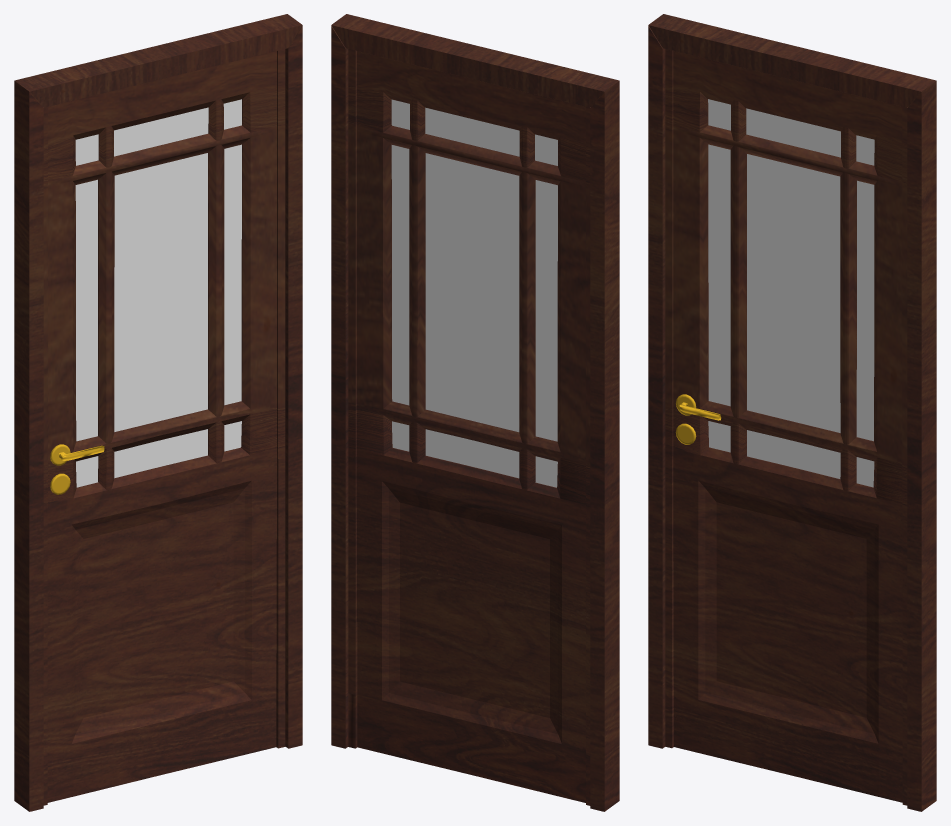
Rendered from PUERTA22_SAVONA.glb.
The picture shows the model from 3 angles, left to right: view 1: azimuth 30°, elevation 25°; view 2: azimuth 150°, elevation 25°; view 3: azimuth 330°, elevation 25°; orthographic projection.
Parts seen in each view (by area): view 1: Puerta22_SANOVA, Puerta22_Marco, CRISTAL_GRANDE, Puerta22_Cerradura; view 2: Puerta22_SANOVA, Puerta22_Marco, CRISTAL_GRANDE; view 3: Puerta22_SANOVA, Puerta22_Marco, CRISTAL_GRANDE, Puerta22_Cerradura.
Boxes of the visible parts, left/top/right/bottom form: Puerta22_SANOVA: left=43, top=49, right=285, bottom=805; Puerta22_Marco: left=14, top=14, right=302, bottom=811; CRISTAL_GRANDE: left=75, top=99, right=241, bottom=487; Puerta22_Cerradura: left=50, top=444, right=104, bottom=494; Puerta22_SANOVA: left=348, top=49, right=590, bottom=805; Puerta22_Marco: left=331, top=14, right=619, bottom=811; CRISTAL_GRANDE: left=391, top=99, right=557, bottom=487; Puerta22_SANOVA: left=665, top=49, right=907, bottom=805; Puerta22_Marco: left=648, top=14, right=936, bottom=811; CRISTAL_GRANDE: left=708, top=99, right=874, bottom=487; Puerta22_Cerradura: left=675, top=394, right=721, bottom=444.
Bounding box in the file's own units: 769 × 1936 × 85.
5 materials, 3 textured.
